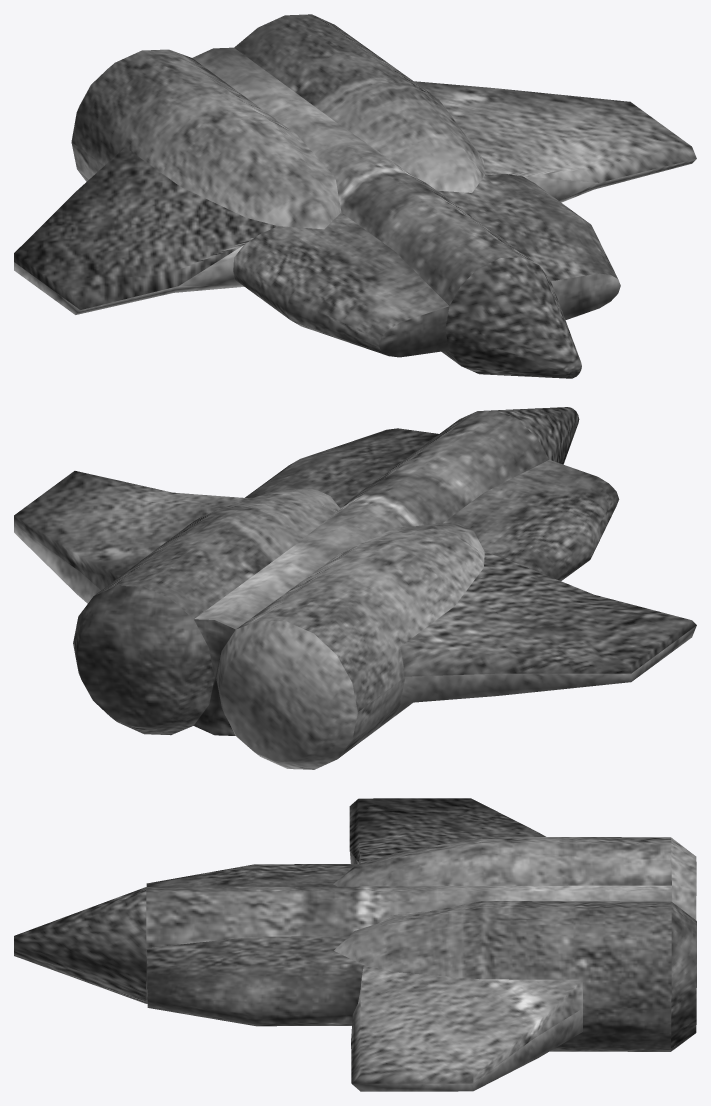
Rendered from ship_old.obj.
3 renders of one model, top to bottom at view 1: azimuth 30°, elevation 25°; view 2: azimuth 150°, elevation 25°; view 3: azimuth 270°, elevation 25°, orthographic. The views are drawn at different scales.
Parts seen in each view (by area): view 1: Cube; view 2: Cube; view 3: Cube.
Boxes of the visible parts, box(x1,y1,x2,y2) form: Cube: box(14, 14, 696, 378); Cube: box(14, 407, 696, 769); Cube: box(14, 798, 696, 1091).
Size of the model in its own units: 11.2 by 2.58 by 11.65.
